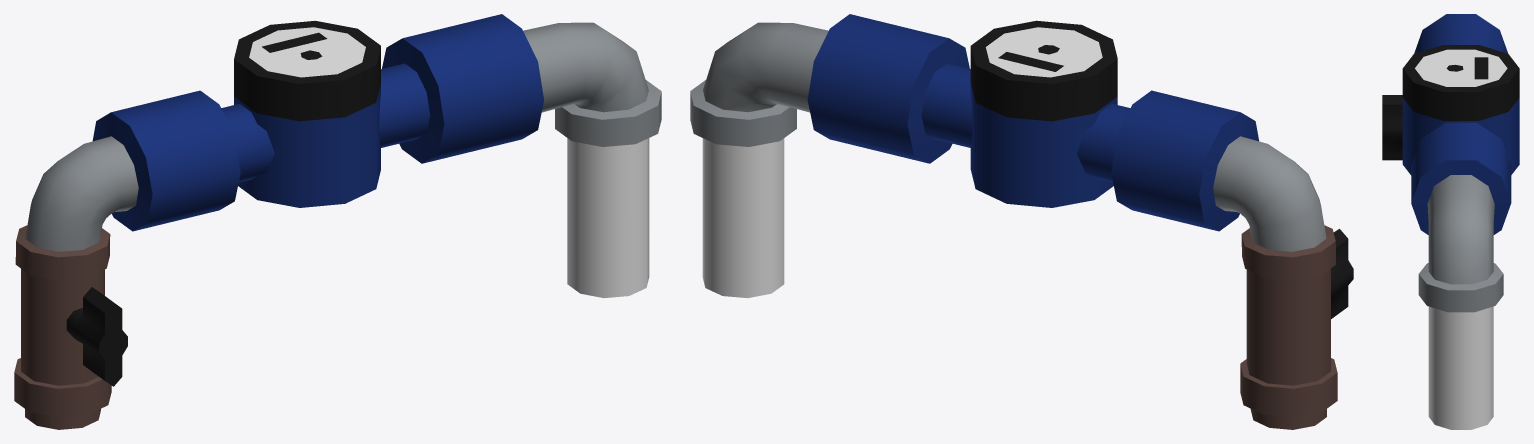
The model's file is MESH_ENV_Registro_Agua.fbx.
The picture shows the model from 3 angles, left to right: view 1: azimuth 30°, elevation 25°; view 2: azimuth 150°, elevation 25°; view 3: azimuth 270°, elevation 25°; orthographic projection. The views are drawn at different scales.
Visible parts, largest first — view 1: registro_agua; view 2: registro_agua; view 3: registro_agua.
Part boxes in pixels (x1,y1,x2,y2): registro_agua: [14, 14, 661, 429]; registro_agua: [690, 14, 1353, 429]; registro_agua: [1382, 14, 1519, 429].
Size of the model in its own units: 64.96 by 29.69 by 15.75.
